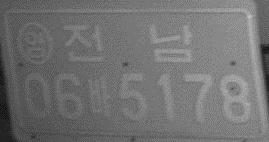0: (22, 70, 50, 119)
1: (153, 71, 180, 123)
5: (118, 71, 148, 123)
6: (53, 71, 84, 120)
7: (183, 71, 211, 123)
8: (218, 74, 251, 124)
바: (86, 75, 112, 120)
영: (16, 21, 54, 66)
전남_D: (61, 22, 193, 63)
